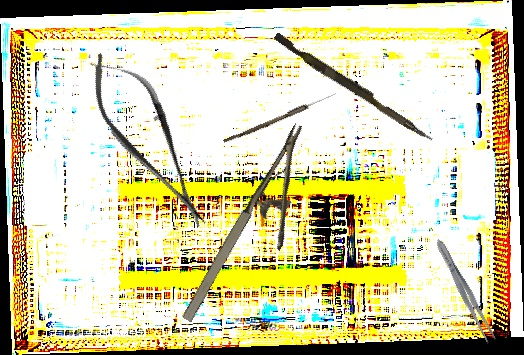Dressing Forceps: (431, 236, 499, 346)
Micro Scissor: (72, 38, 226, 243)
Needle Holder: (176, 122, 342, 343)
Pusher: (270, 32, 438, 143)
Surgical Spoon: (223, 90, 337, 146)
